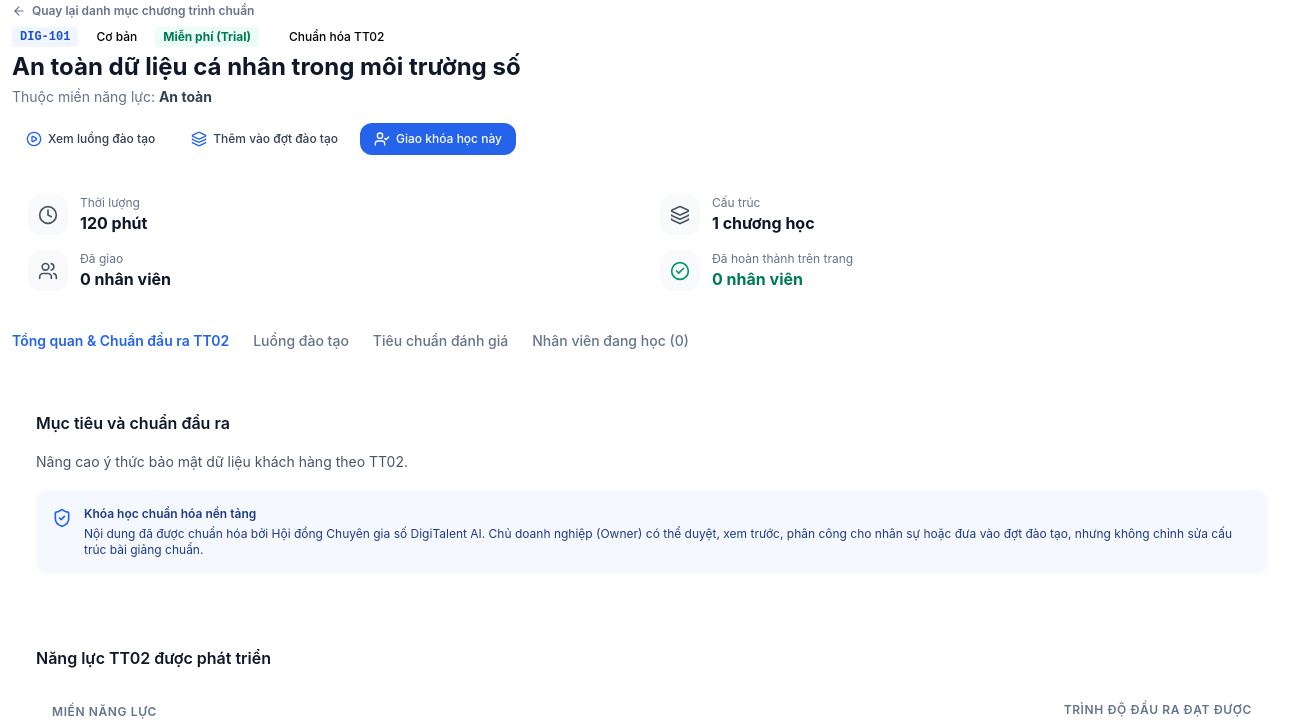
Test: StandardCoursePages (Agent 1 - Phase D) › StandardCourseDetailPage › switches to curriculum tab and displays syllabus modules
Click the button "Luồng đào tạo" at (301, 347), box x1=253 y1=331 x2=349 y2=363
(page scrolled)
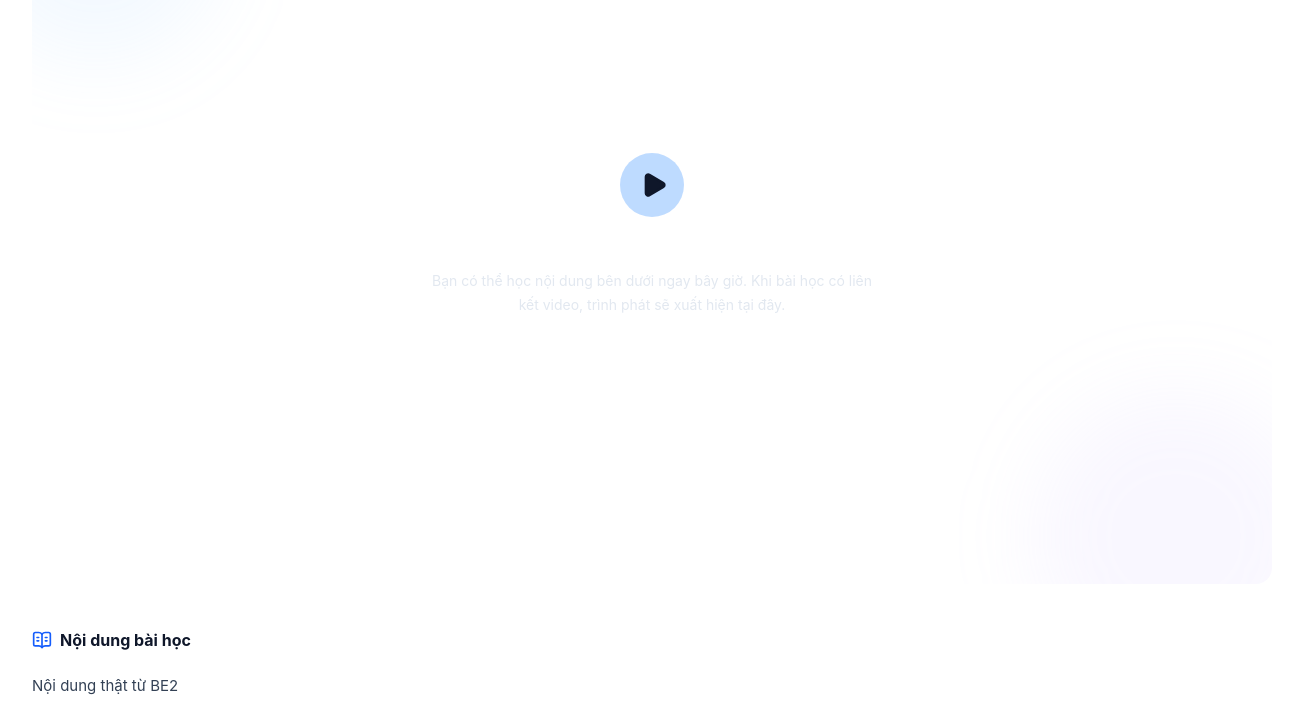
expect the text "Nội dung thật từ BE2" is shown: met, box x1=32 y1=676 x2=178 y2=694
